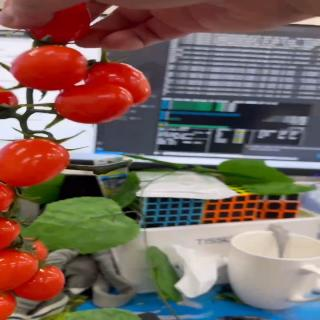tomato: (11, 46, 88, 92), (0, 139, 69, 190), (54, 84, 133, 123), (87, 61, 152, 107), (8, 264, 67, 304), (0, 249, 39, 293), (0, 214, 20, 251), (0, 179, 16, 215), (0, 288, 17, 320)
